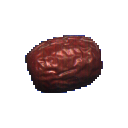gd: (13, 20, 128, 117)
